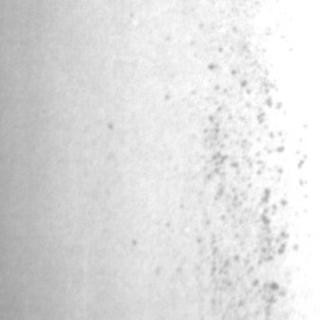pitted_surface: (187, 12, 307, 318)
